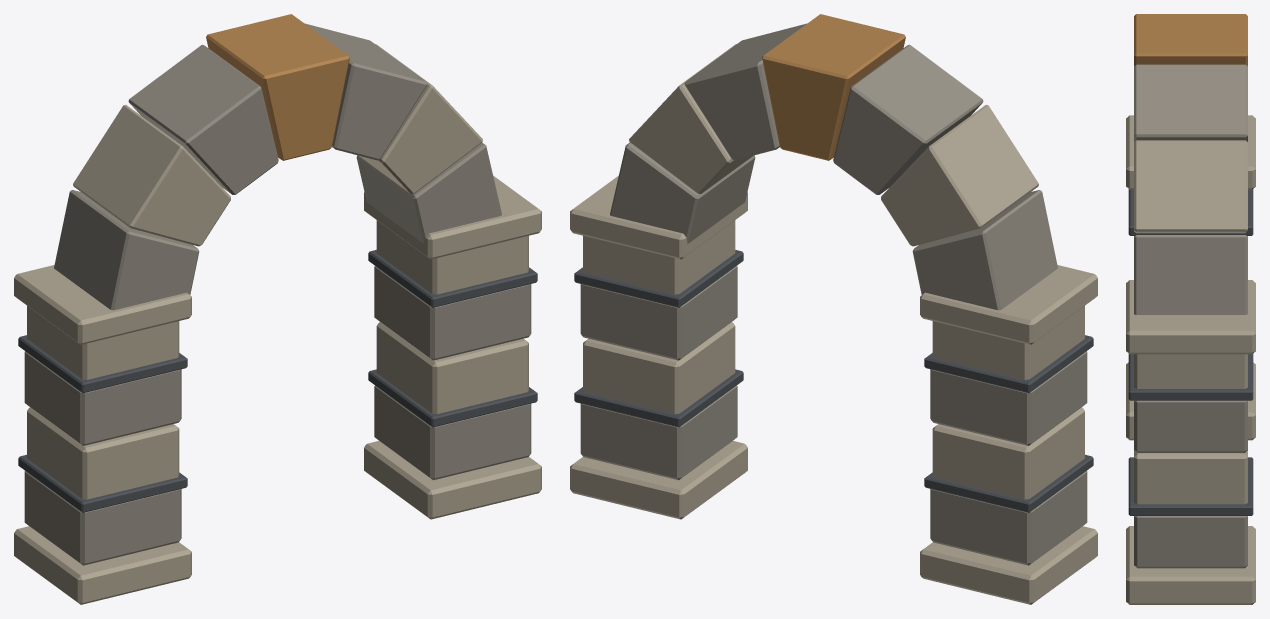
Rendered from archway.glb.
3 renders of one model, left to right at view 1: azimuth 30°, elevation 25°; view 2: azimuth 150°, elevation 25°; view 3: azimuth 270°, elevation 25°, orthographic. The views are drawn at different scales.
Visible parts, largest first — view 1: Original Cinderworks archway; view 2: Original Cinderworks archway; view 3: Original Cinderworks archway.
Part boxes in pixels (x1,y1,x2,y2): Original Cinderworks archway: (14,14,541,604); Original Cinderworks archway: (570,14,1097,604); Original Cinderworks archway: (1126,14,1255,604).
Size of the model in its own units: 3.98 by 3.94 by 1.
